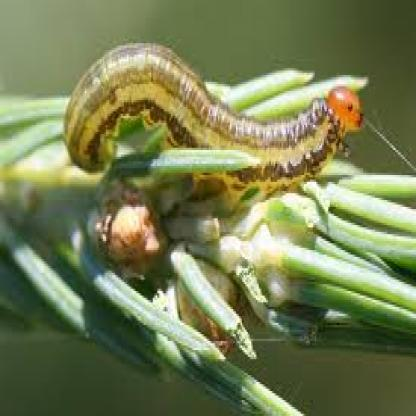sawfly: (60, 39, 369, 190)
